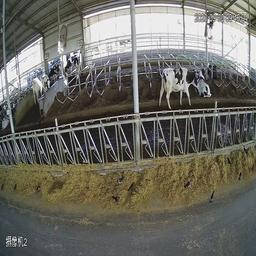cow: (178, 64, 214, 108), (41, 69, 56, 104), (30, 75, 43, 110)
